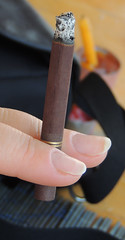cigarette: (32, 10, 78, 205)
